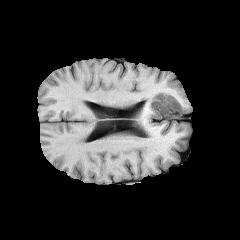glioma: (142, 91, 180, 118)
